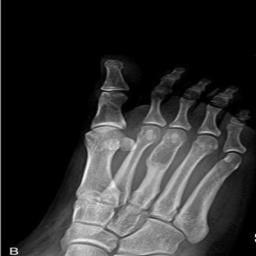cancer: (147, 141, 182, 178)
